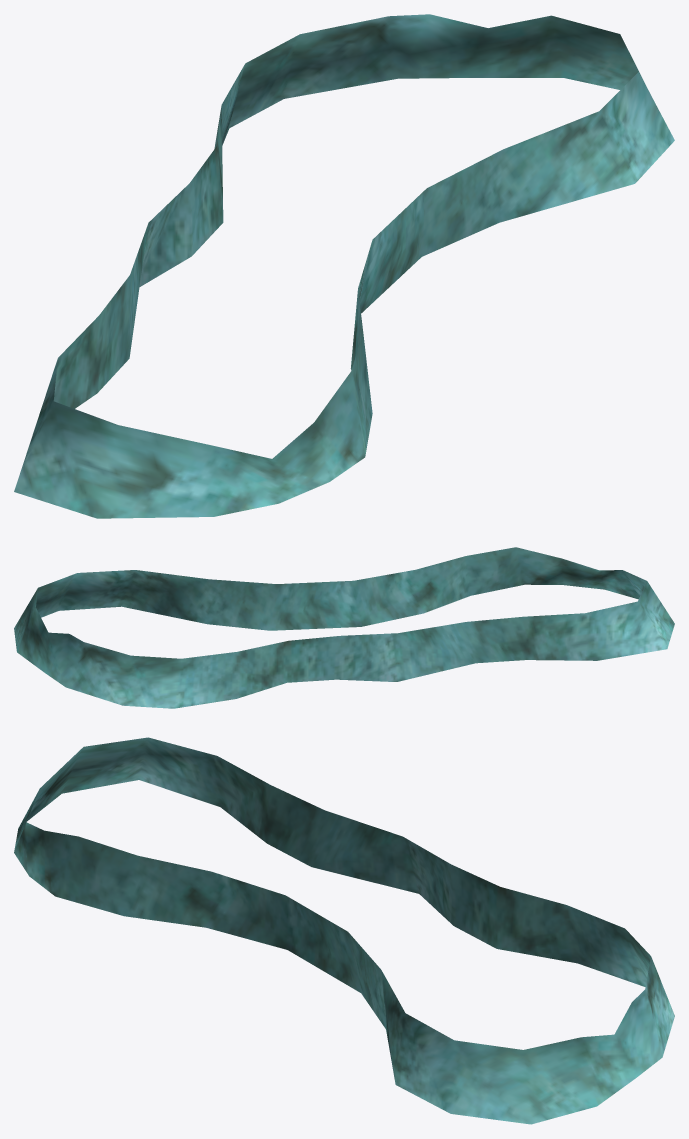
Rendered from EKH_CAVERNS_PS_CA_OBJECT19.fbx.
3 renders of one model, top to bottom at view 1: azimuth 30°, elevation 25°; view 2: azimuth 150°, elevation 25°; view 3: azimuth 270°, elevation 25°, orthographic. The views are drawn at different scales.
Parts seen in each view (by area): view 1: EKH_CAVERNS_PS_CA_OBJECT19; view 2: EKH_CAVERNS_PS_CA_OBJECT19; view 3: EKH_CAVERNS_PS_CA_OBJECT19.
Boxes of the visible parts, <box> form: EKH_CAVERNS_PS_CA_OBJECT19: <box>14,14,674,518</box>; EKH_CAVERNS_PS_CA_OBJECT19: <box>14,547,674,708</box>; EKH_CAVERNS_PS_CA_OBJECT19: <box>14,737,674,1124</box>.
Size of the model in its own units: 107569 by 8775 by 87213.
1 material, 1 textured.
